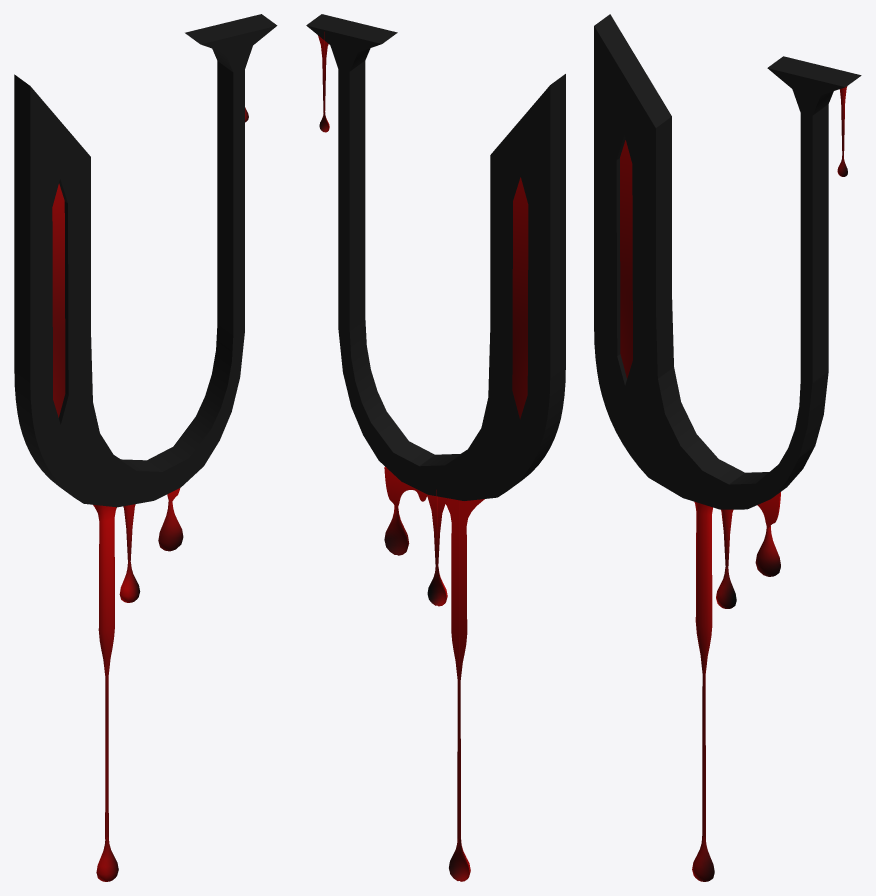
3 renders of one model, left to right at view 1: azimuth 30°, elevation 25°; view 2: azimuth 150°, elevation 25°; view 3: azimuth 330°, elevation 25°, orthographic. The views are drawn at different scales.
Visible parts, largest first — view 1: U, Blood_347, U_Element, Blood_380, Blood_428; view 2: U, Blood_347, U_Element, Blood_428, Blood_380; view 3: U, Blood_347, U_Element, Blood_428, Blood_380.
Part boxes in pixels (x1=…): U: x1=14, y1=14, x2=277, y2=507; Blood_347: x1=93, y1=505, x2=118, y2=881; U_Element: x1=52, y1=183, x2=65, y2=417; Blood_380: x1=119, y1=504, x2=140, y2=602; Blood_428: x1=158, y1=488, x2=183, y2=551; U: x1=306, y1=14, x2=565, y2=500; Blood_347: x1=445, y1=498, x2=484, y2=881; U_Element: x1=512, y1=177, x2=528, y2=419; Blood_428: x1=384, y1=467, x2=426, y2=555; Blood_380: x1=427, y1=490, x2=447, y2=606; U: x1=594, y1=14, x2=861, y2=509; Blood_347: x1=692, y1=501, x2=714, y2=881; U_Element: x1=620, y1=140, x2=632, y2=378; Blood_428: x1=755, y1=492, x2=780, y2=576; Blood_380: x1=716, y1=509, x2=736, y2=608.
Size of the model in its own units: 44.9 by 144 by 5.03.
2 materials, 1 textured.
